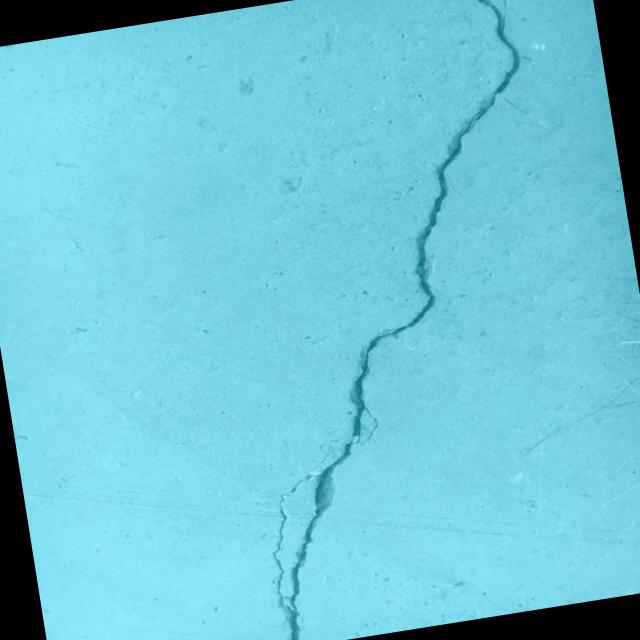crack: (178, 0, 636, 640)
